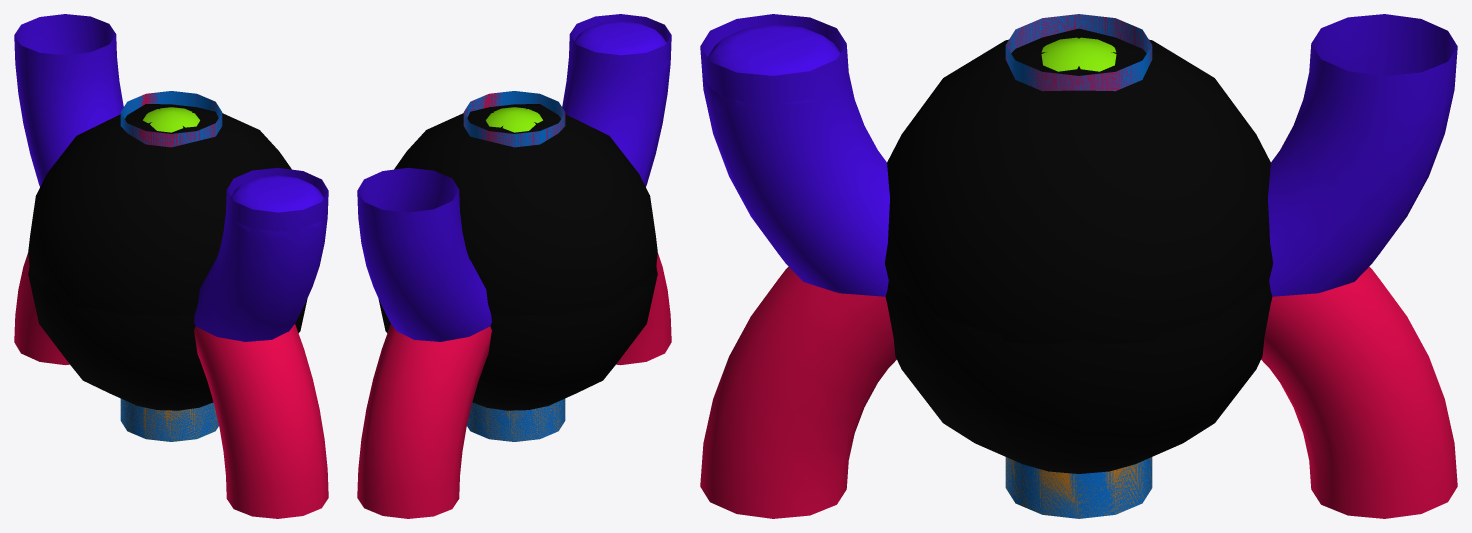
Rendered from Pins.fbx.
3 renders of one model, left to right at view 1: azimuth 30°, elevation 25°; view 2: azimuth 150°, elevation 25°; view 3: azimuth 270°, elevation 25°, orthographic. The views are drawn at different scales.
Parts seen in each view (by area): view 1: PinTop01Mesh, PinSemiTorusMesh, PinSemiTorus01Mesh, PinSpherMesh, PinTube01Mesh, PinSemiTorusCapMesh, PinTubeCapMesh; view 2: PinTop01Mesh, PinSemiTorusMesh, PinSemiTorus01Mesh, PinSpherMesh, PinTube01Mesh, PinSemiTorusCapMesh, PinTubeCapMesh; view 3: PinTop01Mesh, PinSemiTorus01Mesh, PinSemiTorusMesh, PinSpherMesh, PinTube01Mesh, PinSemiTorusCapMesh, PinTubeCapMesh.
Part boxes in pixels (x1,y1,x2,y2): PinTop01Mesh: [28, 104, 291, 441]; PinSemiTorusMesh: [14, 14, 328, 341]; PinSemiTorus01Mesh: [14, 92, 328, 518]; PinSpherMesh: [28, 266, 307, 410]; PinTube01Mesh: [120, 91, 222, 441]; PinSemiTorusCapMesh: [231, 175, 325, 241]; PinTubeCapMesh: [143, 107, 208, 441]; PinTop01Mesh: [394, 104, 657, 441]; PinSemiTorusMesh: [357, 14, 671, 341]; PinSemiTorus01Mesh: [357, 93, 671, 518]; PinSpherMesh: [378, 266, 657, 410]; PinTube01Mesh: [463, 91, 565, 441]; PinSemiTorusCapMesh: [570, 21, 670, 76]; PinTubeCapMesh: [486, 107, 542, 132]; PinTop01Mesh: [884, 28, 1273, 518]; PinSemiTorus01Mesh: [700, 14, 1457, 518]; PinSemiTorusMesh: [700, 14, 1457, 296]; PinSpherMesh: [885, 281, 1272, 473]; PinTube01Mesh: [1005, 14, 1152, 518]; PinSemiTorusCapMesh: [702, 24, 840, 112]; PinTubeCapMesh: [1006, 37, 1116, 515].
Bounding box in the file's own units: 171 × 201 × 310.
